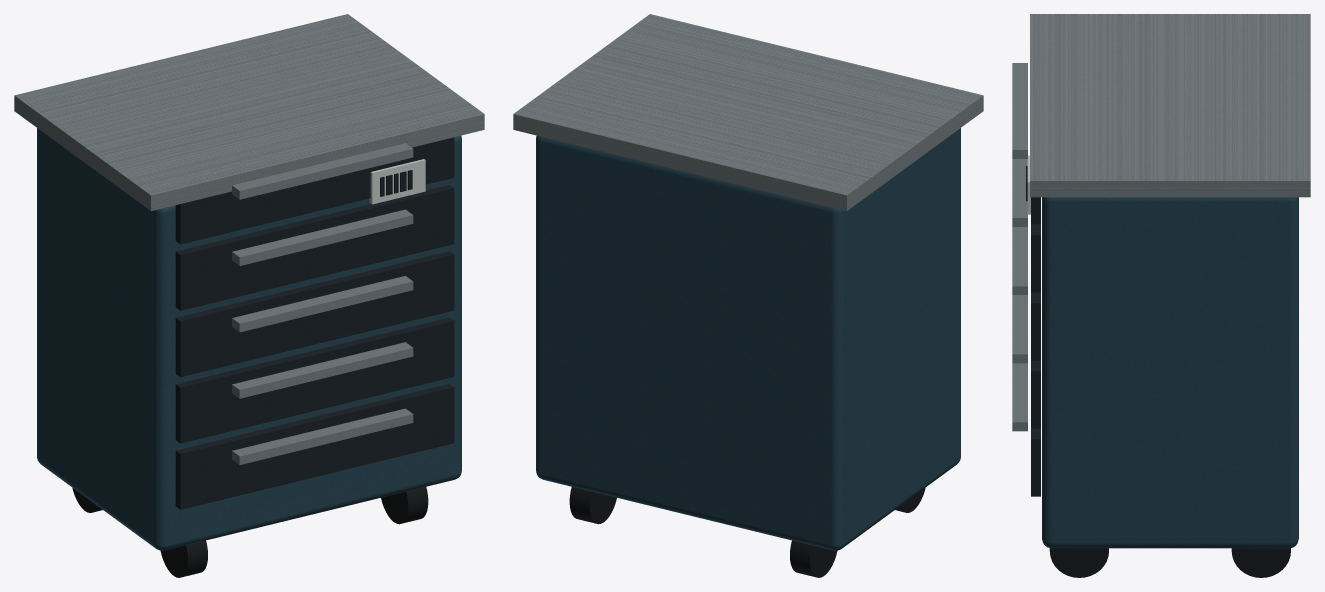
File: tool-cabinet.4a30a3073de4.glb
3 views of the same model, side by side, from view 1: azimuth 30°, elevation 25°; view 2: azimuth 150°, elevation 25°; view 3: azimuth 270°, elevation 25° (orthographic). The views are drawn at different scales.
Visible parts, largest first — view 1: housing_0001, top_0002, drawer_0005, drawer_0007, drawer_0003, drawer_0009, drawer_0011, pull_0010, pull_0004, pull_0006, pull_0008, pull_0012 (+3 smaller); view 2: housing_0001, top_0002, caster_0013, caster_0015; view 3: housing_0001, top_0002, pull_0012, caster_0015, caster_0016, pull_0004, pull_0006, pull_0008, pull_0010, drawer_0003, drawer_0005, drawer_0007 (+1 smaller).
Boxes of the visible parts, left/top/right/bottom form: housing_0001: left=37, top=128, right=461, bottom=550; top_0002: left=14, top=14, right=484, bottom=210; drawer_0005: left=175, top=317, right=454, bottom=443; drawer_0007: left=175, top=251, right=454, bottom=377; drawer_0003: left=175, top=384, right=454, bottom=509; drawer_0009: left=175, top=185, right=454, bottom=310; drawer_0011: left=175, top=137, right=454, bottom=244; pull_0010: left=232, top=209, right=413, bottom=265; pull_0004: left=232, top=408, right=413, bottom=464; pull_0006: left=232, top=342, right=413, bottom=398; pull_0008: left=232, top=276, right=413, bottom=332; pull_0012: left=232, top=143, right=413, bottom=199; housing_0001: left=536, top=128, right=960, bottom=550; top_0002: left=513, top=14, right=983, bottom=210; caster_0013: left=790, top=540, right=837, bottom=577; caster_0015: left=569, top=487, right=616, bottom=524; housing_0001: left=1042, top=197, right=1298, bottom=548; top_0002: left=1030, top=14, right=1310, bottom=197; pull_0012: left=1012, top=63, right=1027, bottom=158; caster_0015: left=1231, top=548, right=1290, bottom=577; caster_0016: left=1049, top=548, right=1108, bottom=577; pull_0004: left=1012, top=363, right=1027, bottom=431; pull_0006: left=1012, top=295, right=1027, bottom=363; pull_0008: left=1012, top=227, right=1027, bottom=294; pull_0010: left=1012, top=159, right=1027, bottom=226; drawer_0003: left=1031, top=428, right=1040, bottom=496; drawer_0005: left=1031, top=360, right=1040, bottom=428; drawer_0007: left=1031, top=292, right=1040, bottom=360.
Bounding box in the file's own units: 1 × 1.17 × 0.755.
5 materials, 3 textured.
